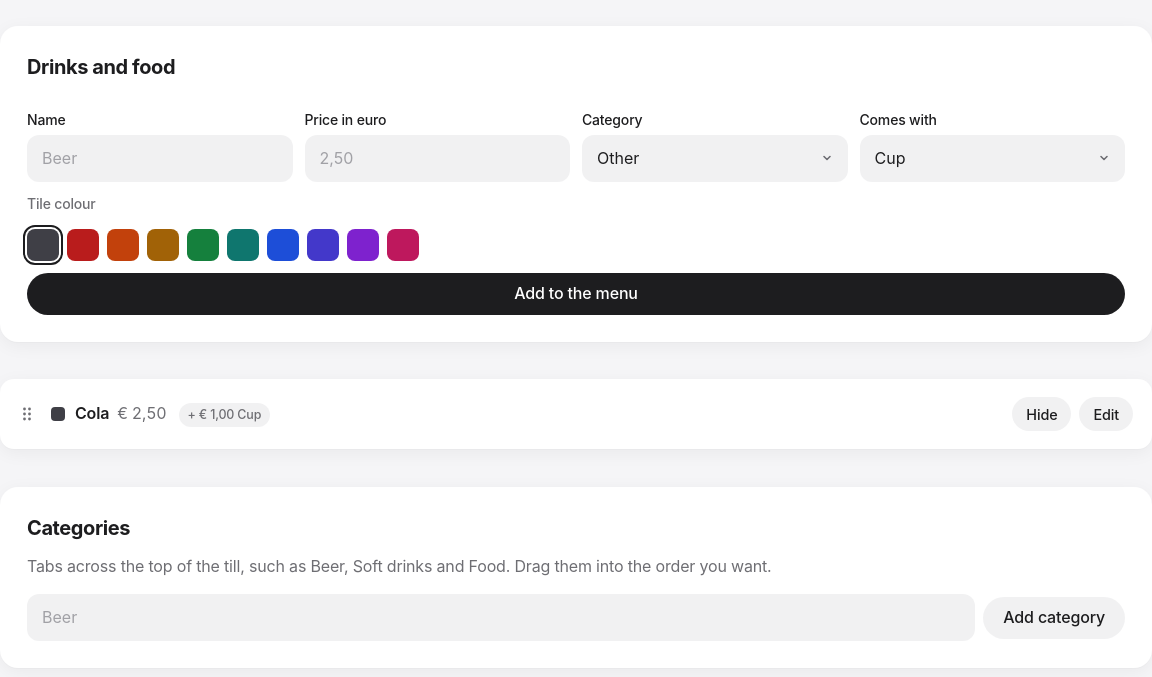
Test case: ProductsTab › asks before deleting an item
Later steps or results of the test are not shown.
What coordinates should you click on to do the following:
click the button "Edit"
I would click on:
 (1106, 414)
Its box is left=1080, top=397, right=1133, bottom=431.
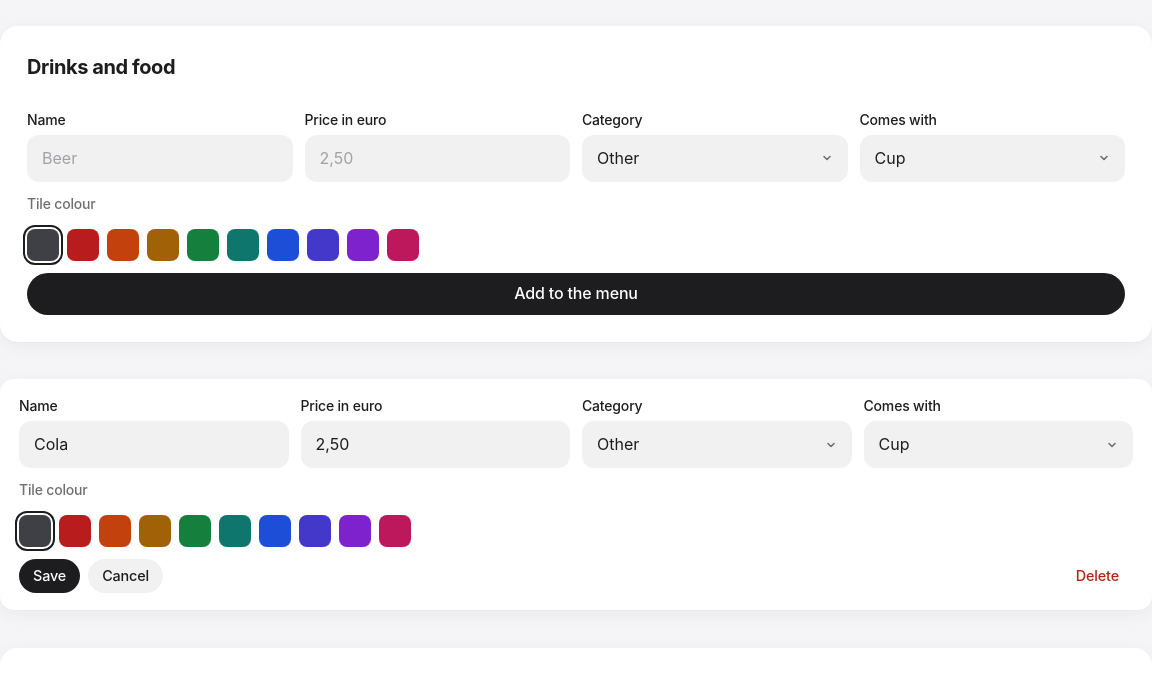
What coordinates should you click on to do the following:
click the button "Delete"
I would click on:
 (1097, 576)
Its box is left=1062, top=559, right=1133, bottom=593.
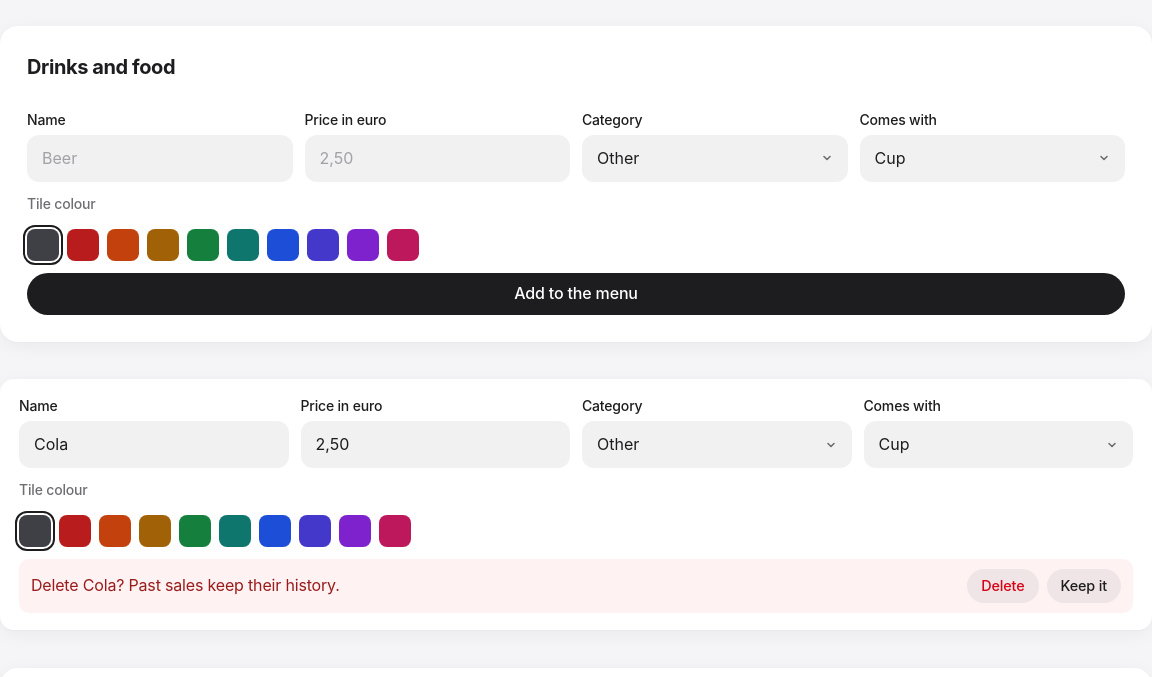
Expected: the text "Delete Cola? Past sales keep their history." is shown, left=31, top=574, right=340, bottom=598
